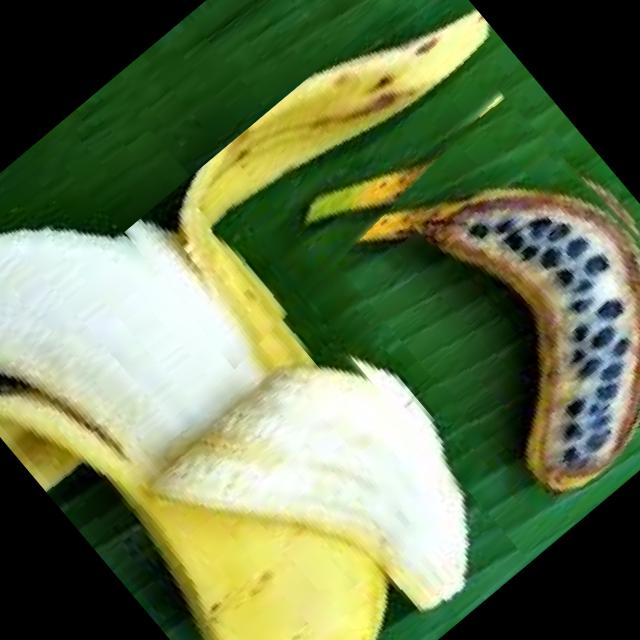Organic: (0, 71, 525, 640), (120, 0, 553, 368), (299, 51, 640, 518)
